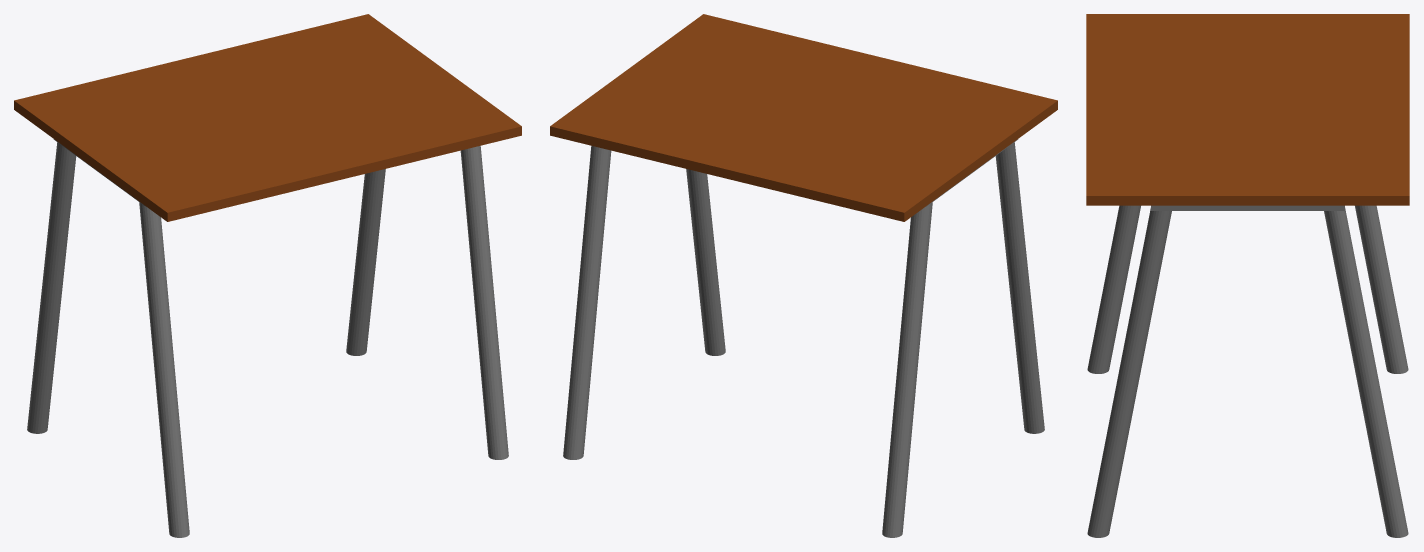
3 views of the same model, side by side, from view 1: azimuth 30°, elevation 25°; view 2: azimuth 150°, elevation 25°; view 3: azimuth 270°, elevation 25° (orthographic). The views are drawn at different scales.
Parts seen in each view (by area): view 1: Mesh1 Galant_80_x_60_1 Model; view 2: Mesh1 Galant_80_x_60_1 Model; view 3: Mesh1 Galant_80_x_60_1 Model.
Boxes of the visible parts, left/top/right/bottom form: Mesh1 Galant_80_x_60_1 Model: left=14, top=14, right=521, bottom=537; Mesh1 Galant_80_x_60_1 Model: left=550, top=14, right=1057, bottom=537; Mesh1 Galant_80_x_60_1 Model: left=1086, top=14, right=1409, bottom=537.
Size of the model in its own units: 0.6523 by 0.5789 by 0.4892.
